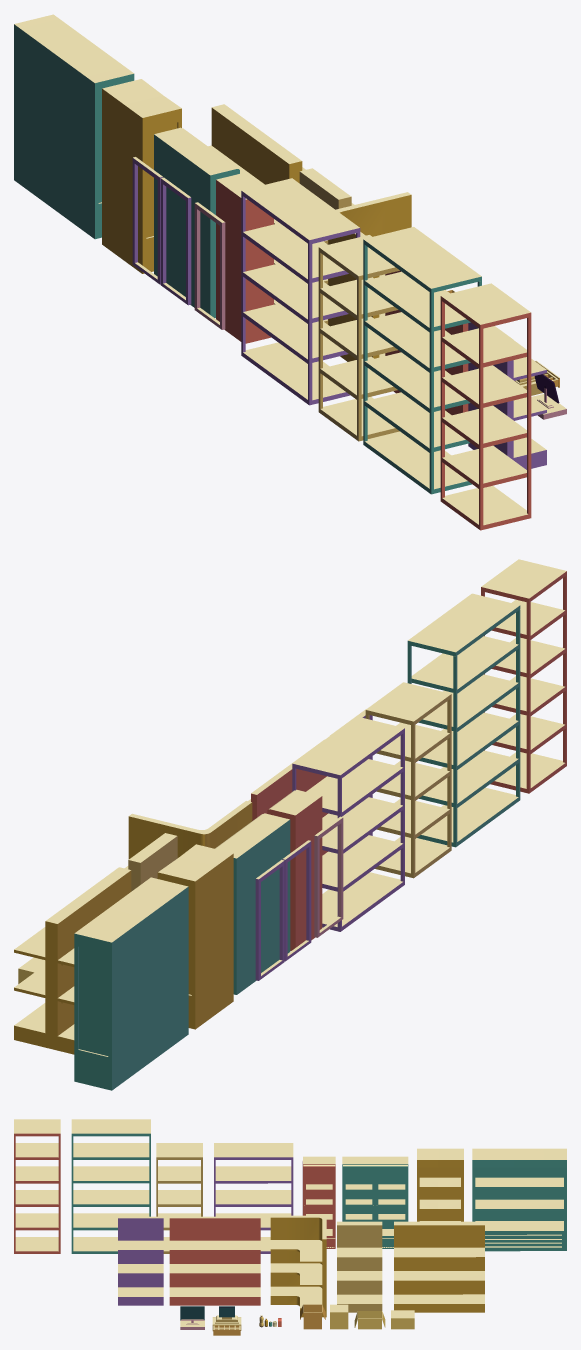
The model's file is StoreProps_RetroPixel.fbx.
3 renders of one model, top to bottom at view 1: azimuth 30°, elevation 25°; view 2: azimuth 150°, elevation 25°; view 3: azimuth 270°, elevation 25°, orthographic. The views are drawn at different scales.
Parts seen in each view (by area): view 1: Rack_TallWide, DisplayCabinet_Wide, Rack_LowWide, Rack_TallSingle, DisplayCabinet_Single, Rack_LowSingle, Cooler_Wide, Cooler_Single, Gondola_Wide, DoorFrame_Double, Shelf_Corner, WallShelf_Single (+4 smaller); view 2: DisplayCabinet_Wide, Rack_TallWide, Rack_LowWide, Rack_TallSingle, Rack_LowSingle, DisplayCabinet_Single, Gondola_Wide, Cooler_Wide, Cooler_Single, Shelf_Corner, DoorFrame_Double, WallShelf_Wide (+2 smaller); view 3: DisplayCabinet_Wide, Gondola_Wide, WallShelf_Wide, Rack_TallWide, Shelf_Corner, Rack_TallSingle, Rack_LowWide, Cooler_Wide, WallShelf_Single, Gondola_Single, DisplayCabinet_Single, Rack_LowSingle (+8 smaller).
Boxes of the visible parts, box(x1,y1,x2,y2) form: Rack_TallWide: box(363, 227, 481, 494); DisplayCabinet_Wide: box(14, 14, 134, 239); Rack_LowWide: box(241, 178, 360, 405); Rack_TallSingle: box(440, 283, 531, 530); DisplayCabinet_Single: box(102, 79, 181, 273); Rack_LowSingle: box(318, 235, 399, 441); Cooler_Wide: box(154, 127, 239, 317); Cooler_Single: box(216, 173, 273, 343); Gondola_Wide: box(208, 104, 305, 185); DoorFrame_Double: box(132, 157, 191, 305); Shelf_Corner: box(328, 192, 411, 361); WallShelf_Single: box(468, 322, 546, 469); DisplayCabinet_Wide: box(74, 877, 188, 1090); Rack_TallWide: box(407, 593, 520, 847); Rack_LowWide: box(292, 716, 404, 931); Rack_TallSingle: box(481, 559, 566, 793); Rack_LowSingle: box(365, 682, 451, 878); DisplayCabinet_Single: box(157, 844, 233, 1029); Gondola_Wide: box(14, 867, 131, 1054); Cooler_Wide: box(215, 813, 290, 994); Cooler_Single: box(267, 789, 322, 950); Shelf_Corner: box(128, 801, 252, 859); DoorFrame_Double: box(255, 840, 311, 980); WallShelf_Wide: box(248, 739, 327, 855); DisplayCabinet_Wide: box(472, 1148, 566, 1251); Gondola_Wide: box(394, 1221, 484, 1312); WallShelf_Wide: box(169, 1216, 260, 1305); Rack_TallWide: box(71, 1119, 150, 1253); Shelf_Corner: box(270, 1215, 326, 1317); Rack_TallSingle: box(14, 1119, 60, 1253); Rack_LowWide: box(214, 1143, 293, 1253); Cooler_Wide: box(342, 1156, 408, 1248); WallShelf_Single: box(118, 1216, 163, 1305); Gondola_Single: box(337, 1221, 382, 1312); DisplayCabinet_Single: box(417, 1148, 463, 1221); Rack_LowSingle: box(156, 1143, 202, 1253).
Bounding box in the file's own units: 396 × 361 × 1242.
Materials: 1 (1 with a texture image).
